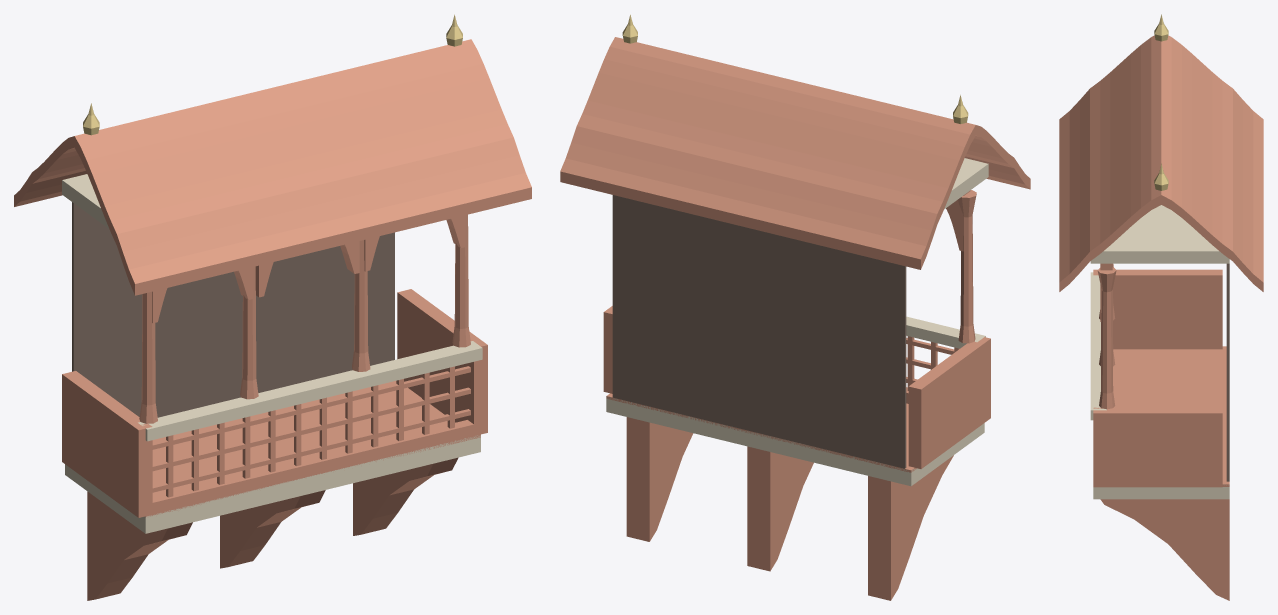
The model's file is kit_jharokha2.glb.
3 renders of one model, left to right at view 1: azimuth 30°, elevation 25°; view 2: azimuth 150°, elevation 25°; view 3: azimuth 270°, elevation 25°, orthographic. The views are drawn at different scales.
Visible parts, largest first — view 1: kit_jharokha2; view 2: kit_jharokha2; view 3: kit_jharokha2.
Part boxes in pixels (left/top/right/bottom): kit_jharokha2: left=14, top=14, right=531, bottom=600; kit_jharokha2: left=560, top=14, right=1030, bottom=600; kit_jharokha2: left=1059, top=14, right=1263, bottom=600.
Size of the model in its own units: 2.84 by 3.67 by 1.5.
